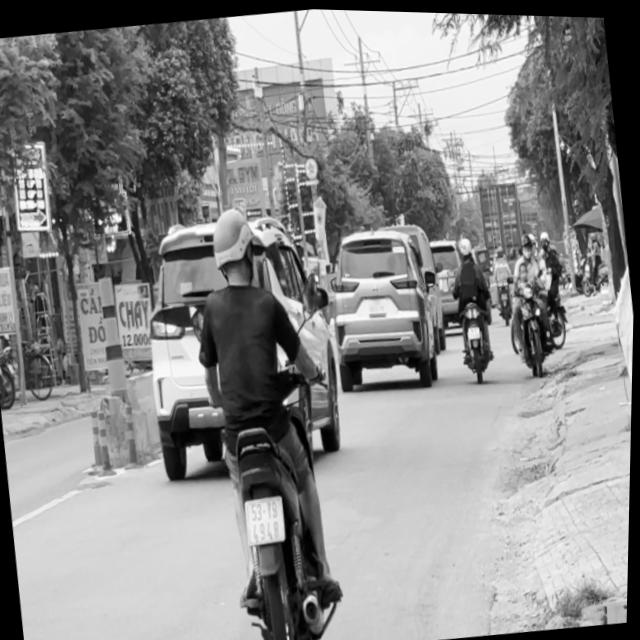helmet: (204, 199, 263, 286)
licenseplate: (177, 188, 360, 640)
nohelmet: (244, 491, 287, 543)
